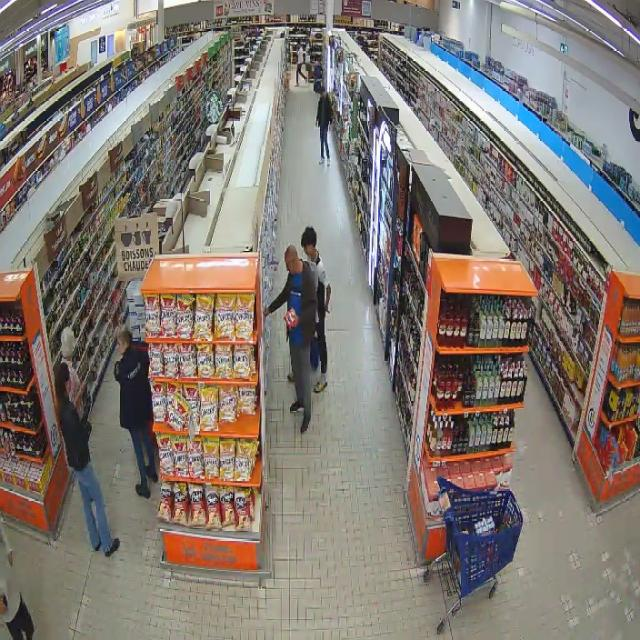article: (284, 307, 296, 328)
hands: (0, 598, 7, 615), (290, 315, 299, 327), (8, 551, 13, 566), (263, 306, 269, 317), (326, 303, 330, 314), (316, 121, 319, 128)
person: (55, 362, 119, 556), (264, 246, 315, 433), (114, 326, 157, 498), (302, 227, 331, 392), (61, 327, 83, 416), (315, 92, 333, 164)
